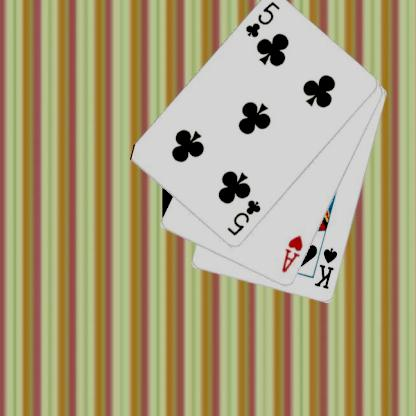5C: (224, 197, 263, 238), (243, 0, 281, 40)
AH: (279, 232, 305, 275)
KS: (312, 245, 339, 291)
